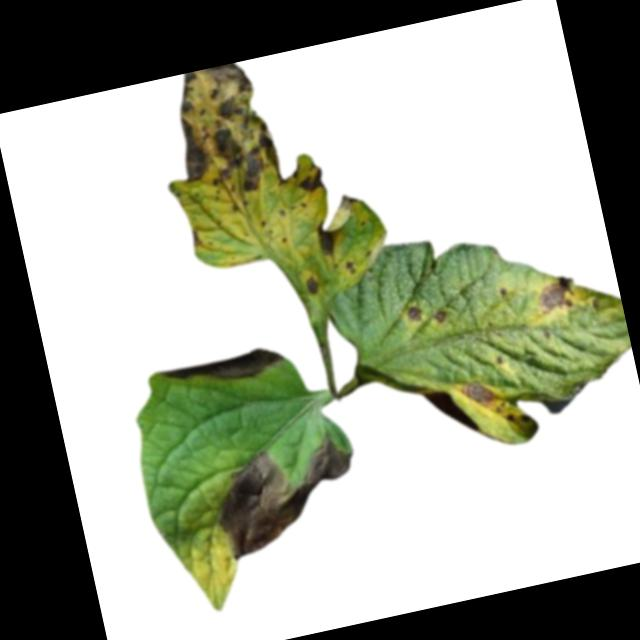Early_blight: (204, 428, 370, 563), (166, 57, 286, 208), (159, 337, 284, 397), (457, 374, 505, 416), (533, 274, 576, 318), (296, 162, 329, 197), (313, 218, 340, 260), (305, 276, 323, 300), (406, 305, 426, 325), (190, 226, 203, 249), (342, 257, 357, 276), (435, 311, 449, 328)
